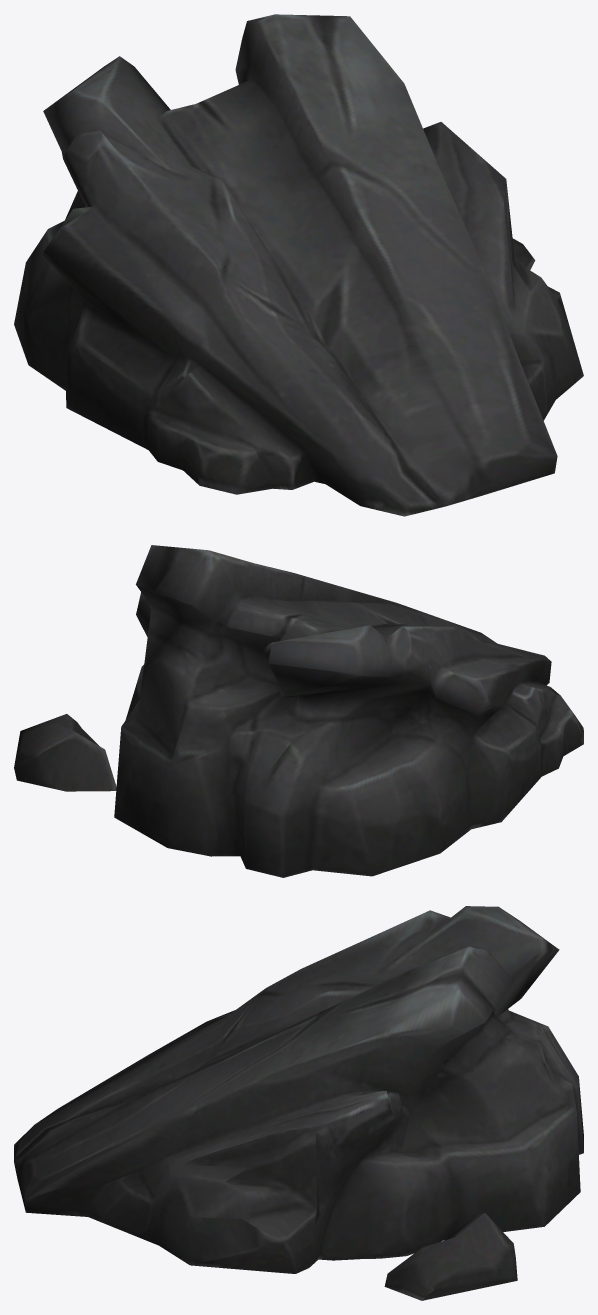
The model's file is moba_st_03.FBX.
The picture shows the model from 3 angles, top to bottom: view 1: azimuth 30°, elevation 25°; view 2: azimuth 150°, elevation 25°; view 3: azimuth 270°, elevation 25°; orthographic projection. The views are drawn at different scales.
Parts seen in each view (by area): view 1: Object011; view 2: Object011; view 3: Object011.
Boxes of the visible parts, x1,y1,x2,y2 form: Object011: (14, 14, 583, 516); Object011: (14, 545, 583, 877); Object011: (14, 906, 583, 1300).
Bounding box in the file's own units: 44.94 × 24 × 49.2.
